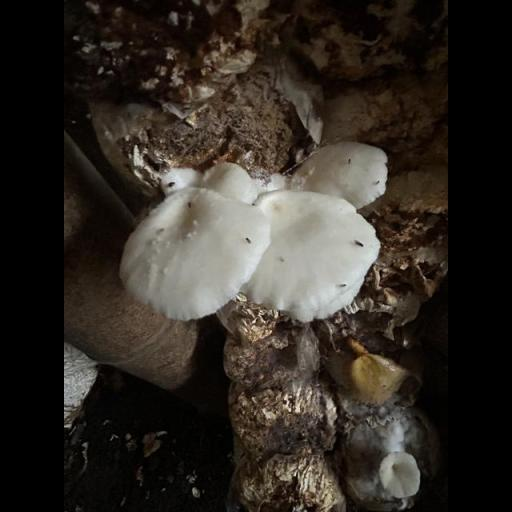White Oyster Mushroom: (119, 138, 399, 334)
